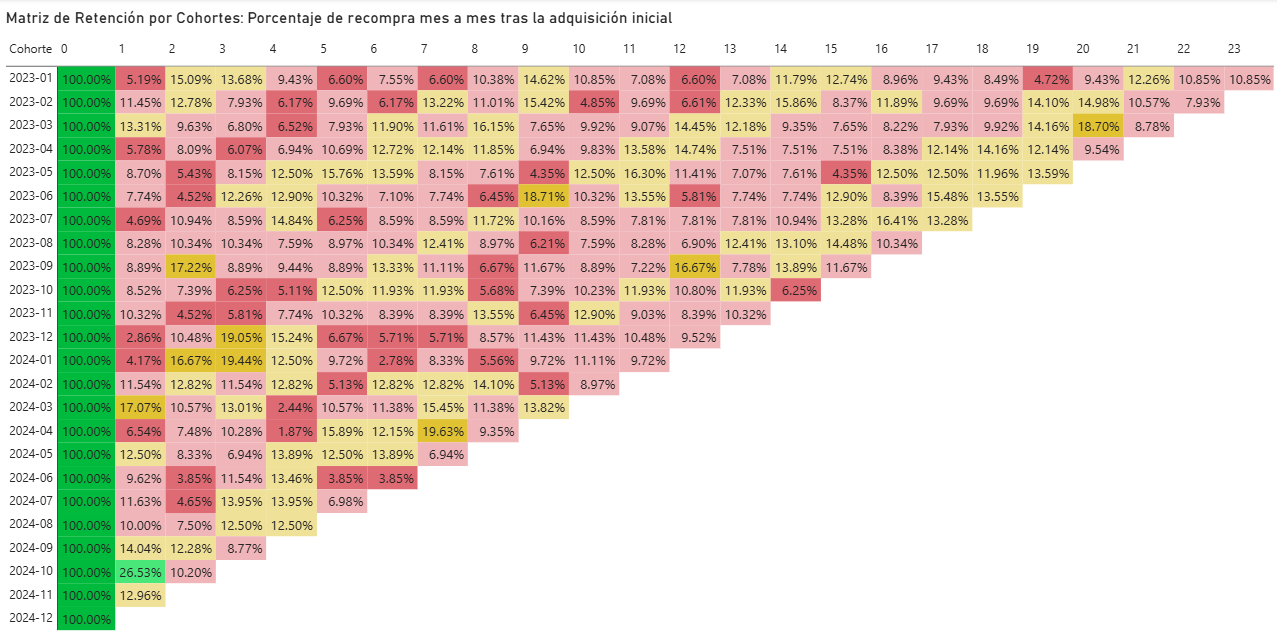

What the dashboard file says about the page in this screenshot:
{"tool":"powerbi","page":{"name":"Anáñisis cohortes","canvas":[1920,1080],"ordinal":2},"visuals":[{"type":"pivotTable","title":"Matriz de Retención por Cohortes: Porcentaje de recompra mes a mes tras la adquisición inicial","fields":{"Rows":["hecho_ventas_propiedades.Cohorte"],"Columns":["hecho_ventas_propiedades.Meses desde inicio"],"Values":["hecho_ventas_propiedades.Retencion %"]},"box":[9.3,0,1911.1,956.5],"z":0}]}

Visuals, with their boxes on the page's 1920x1080 design canvas (x1, y1, x2, y2). These are canvas units, not pixel positions in the 1277x636 screenshot, which may show the page scaled, cropped or inside an application window:
"Matriz de Retención por Cohortes: Porcentaje de recompra mes a mes tras la adquisición inicial" pivotTable: bbox=[9, 0, 1920, 956]
